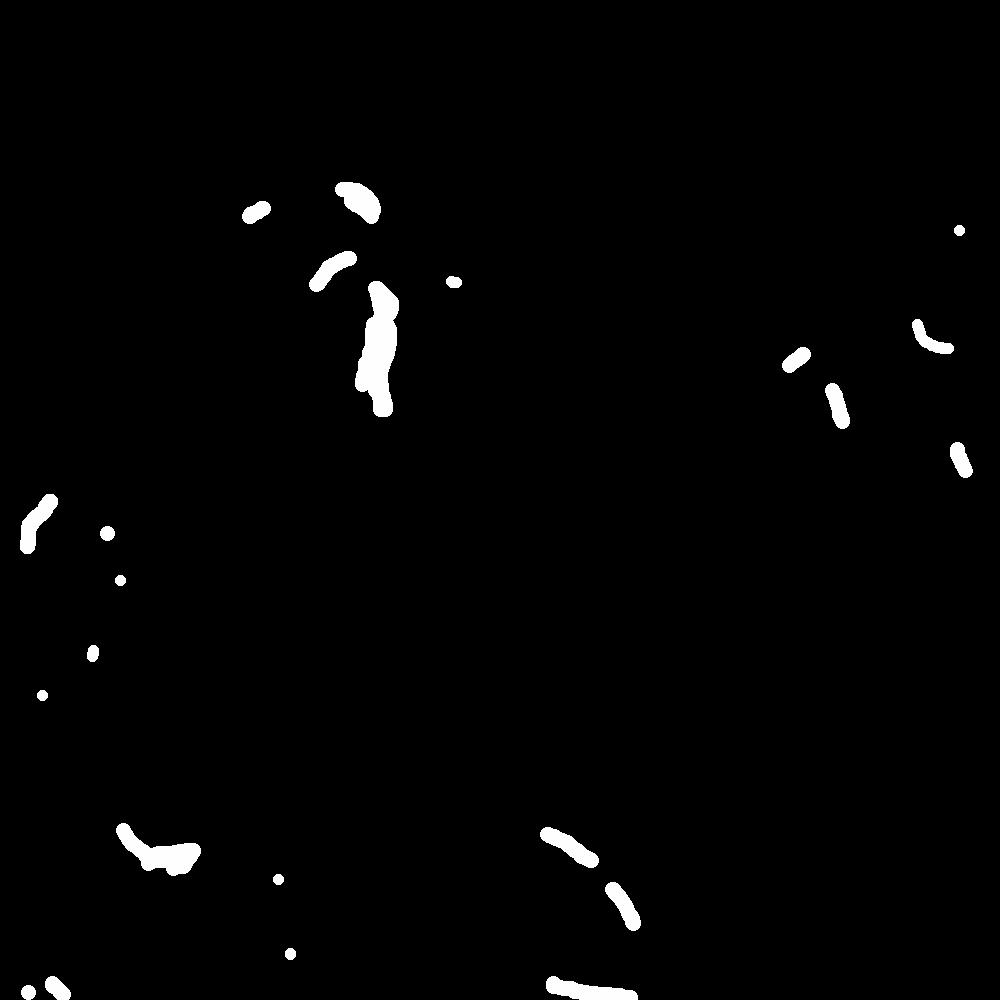legal: (358, 281, 393, 417), (122, 826, 198, 880), (532, 965, 631, 1000), (334, 181, 384, 244), (17, 496, 59, 548), (308, 255, 356, 297), (548, 832, 594, 863), (614, 884, 635, 934), (921, 331, 960, 352), (830, 385, 847, 418), (49, 975, 71, 1000), (789, 346, 807, 369), (948, 442, 964, 464), (446, 273, 468, 288), (256, 201, 269, 212)
